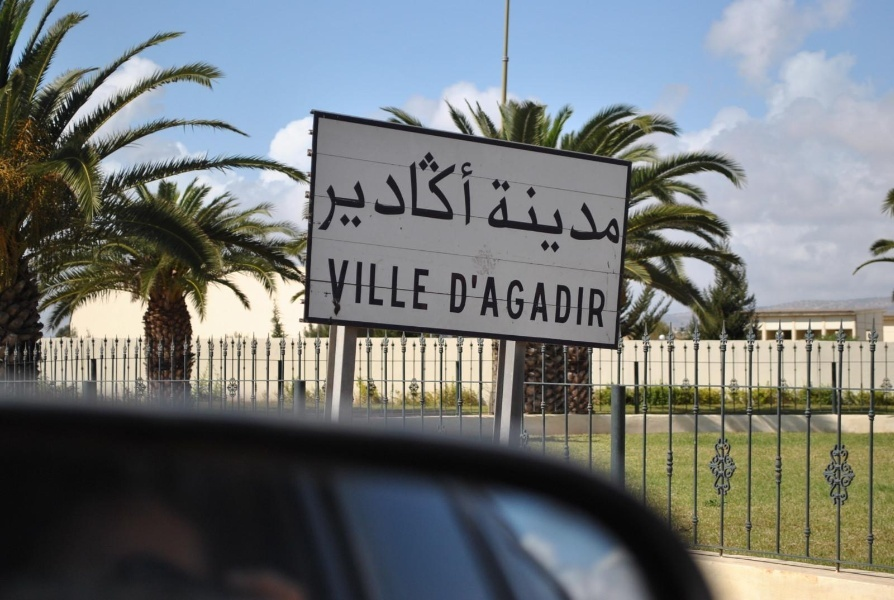text: (337, 144, 352, 233), (353, 144, 368, 233), (369, 144, 384, 233), (385, 144, 400, 233), (401, 144, 416, 233), (417, 144, 432, 233), (433, 144, 448, 233), (449, 144, 464, 233), (497, 174, 512, 262), (513, 174, 528, 262), (529, 174, 544, 262), (545, 174, 560, 262), (561, 174, 576, 262), (577, 174, 592, 262), (593, 174, 608, 262), (609, 174, 621, 262), (465, 273, 480, 330), (481, 273, 496, 330), (497, 273, 512, 330), (513, 273, 528, 330), (529, 273, 544, 330), (545, 273, 560, 330), (561, 273, 576, 330), (577, 273, 592, 330), (337, 256, 352, 312), (353, 256, 368, 312), (369, 256, 384, 312), (385, 256, 400, 312), (401, 256, 416, 312), (417, 256, 432, 312), (465, 144, 474, 233), (593, 273, 607, 330), (451, 273, 464, 330), (488, 174, 496, 262), (326, 256, 336, 312), (332, 144, 336, 233)
